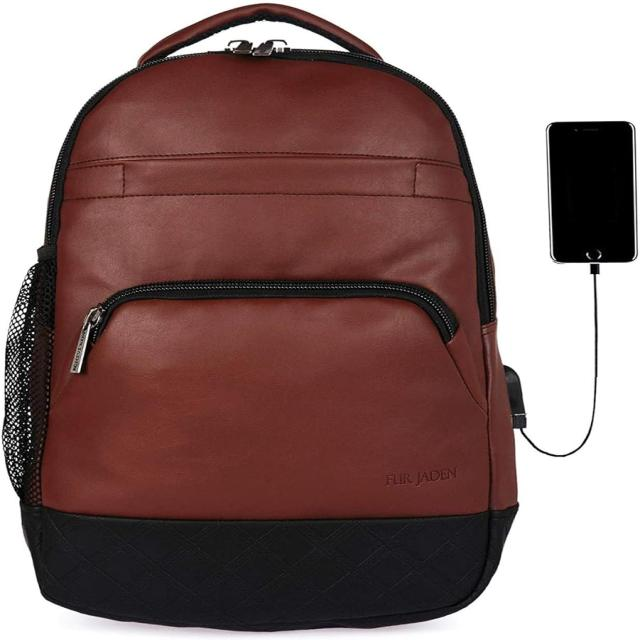backpack: (1, 2, 537, 640)
